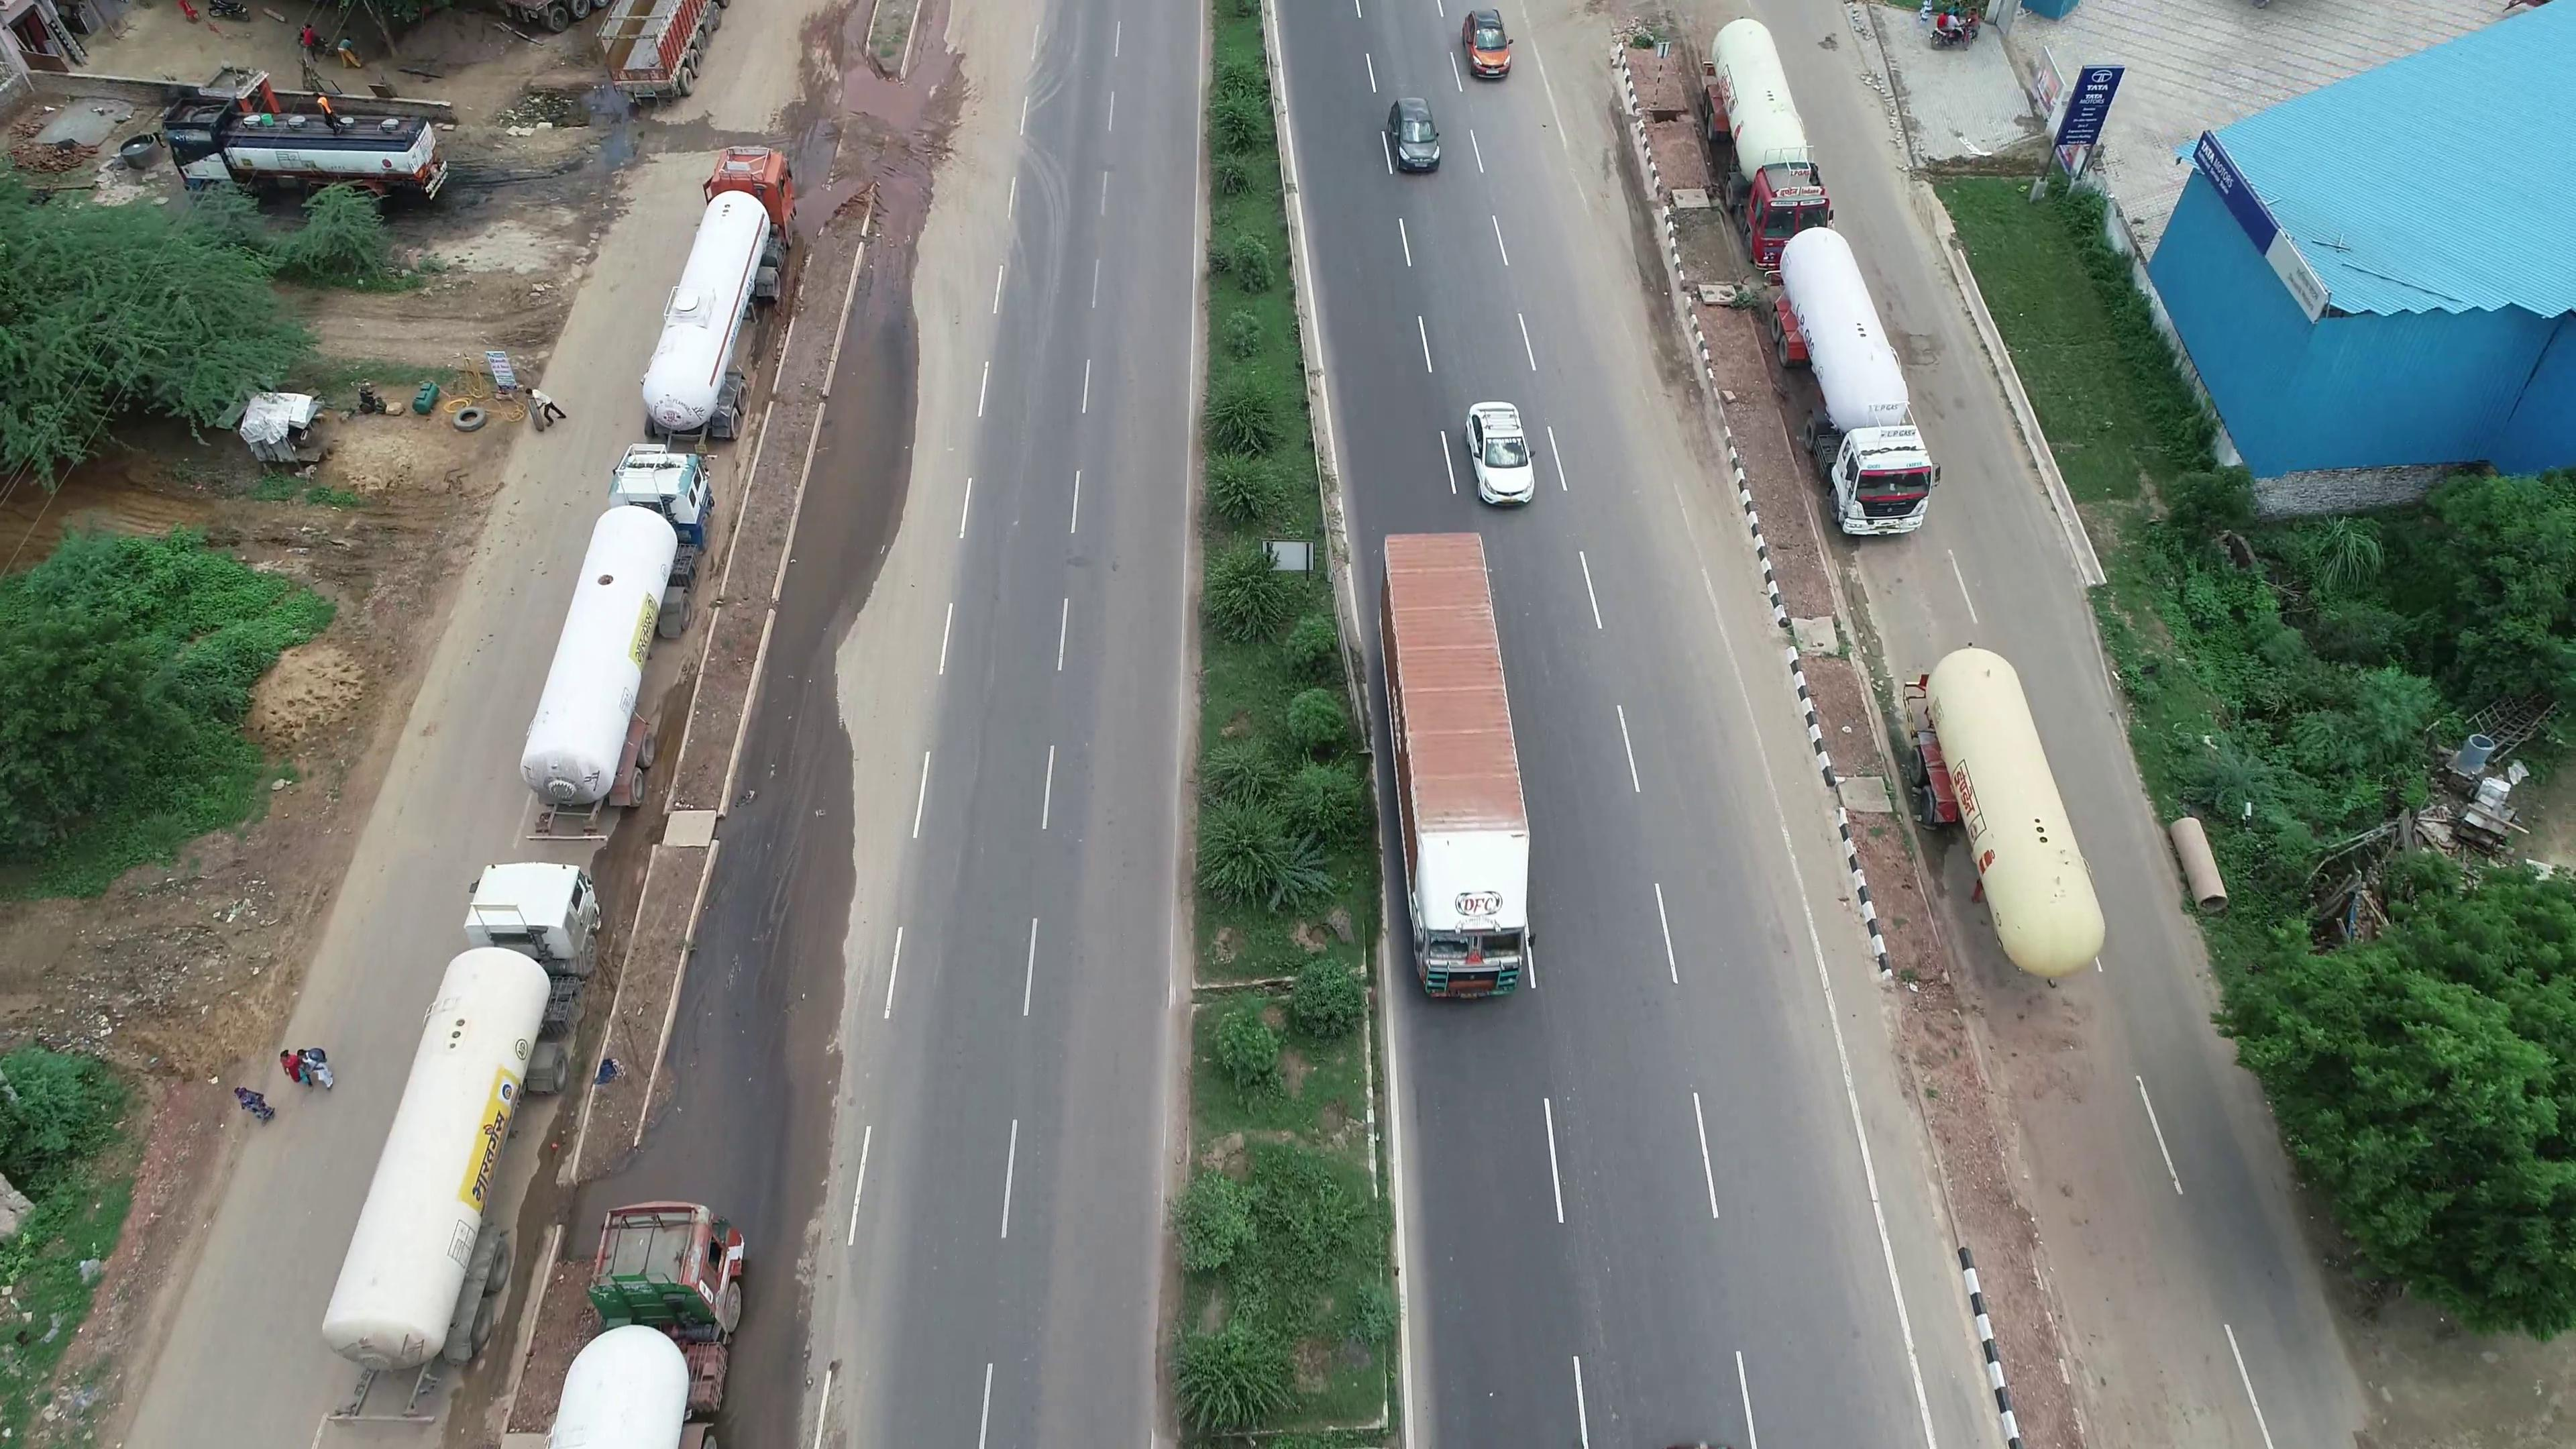Muddy_road: (665, 879, 817, 1182)
Waterlogging: (793, 338, 934, 614)
